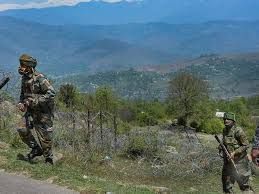gun: (209, 129, 239, 179)
uniform: (15, 77, 60, 158), (212, 122, 252, 189)
